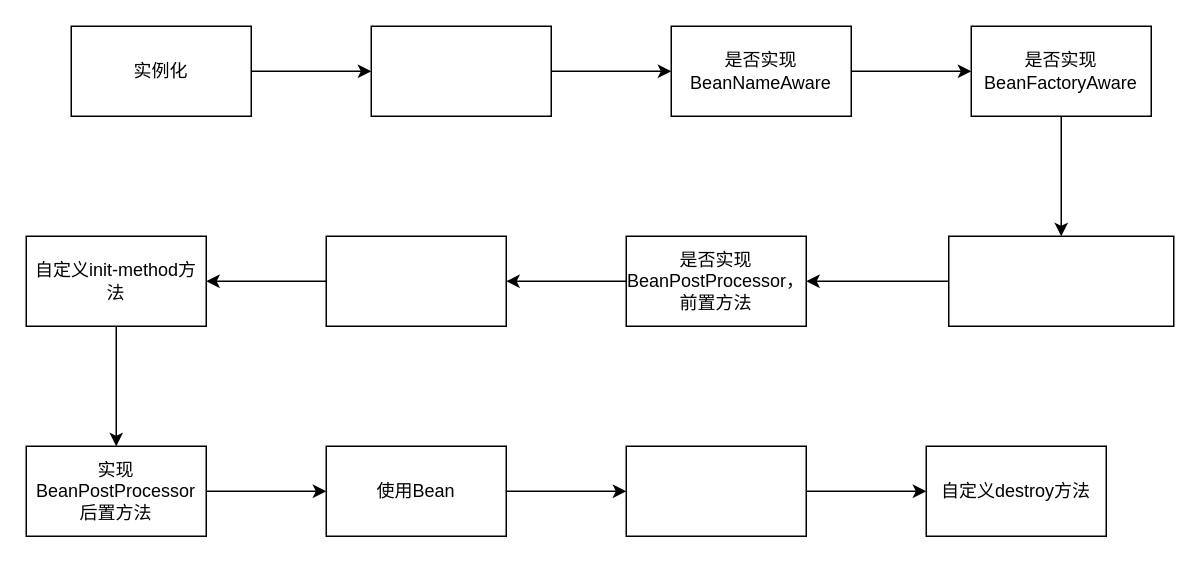
Some shapes in this 1200 by 563 pixel diagram are drawn without their labels. The centre of each missing label's shape, as x and y in pixels:
实现DisposableBean接口，执行destroy方法: the point at 715,490
实现InitializingBean，执行afterPropertiesSet方法: the point at 415,280
属性注入: the point at 460,70
是否实现ApplicationContextAware: the point at 1060,280
